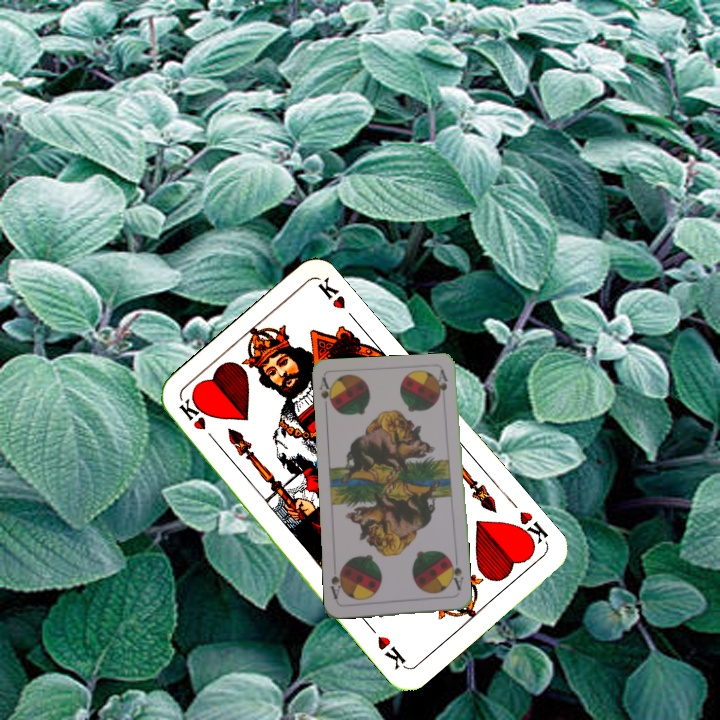HK: (175, 394, 220, 447), (509, 507, 551, 552)
SA: (445, 556, 466, 593), (316, 374, 336, 412)
